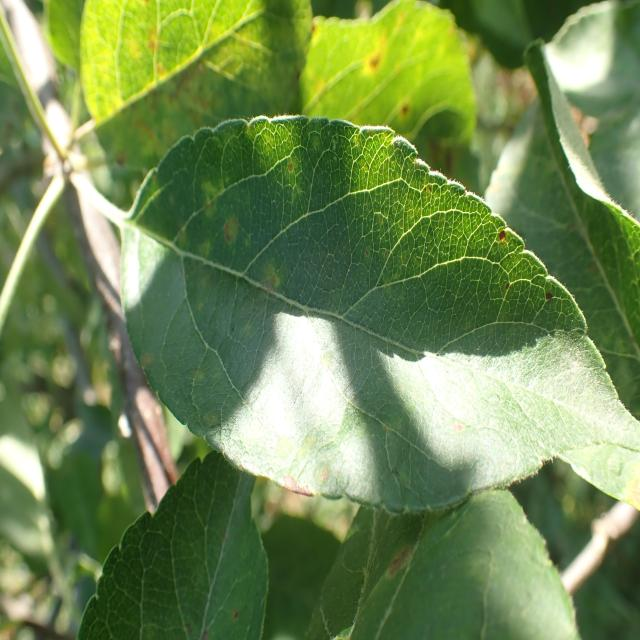scab: (130, 130, 594, 500), (109, 6, 229, 168)
